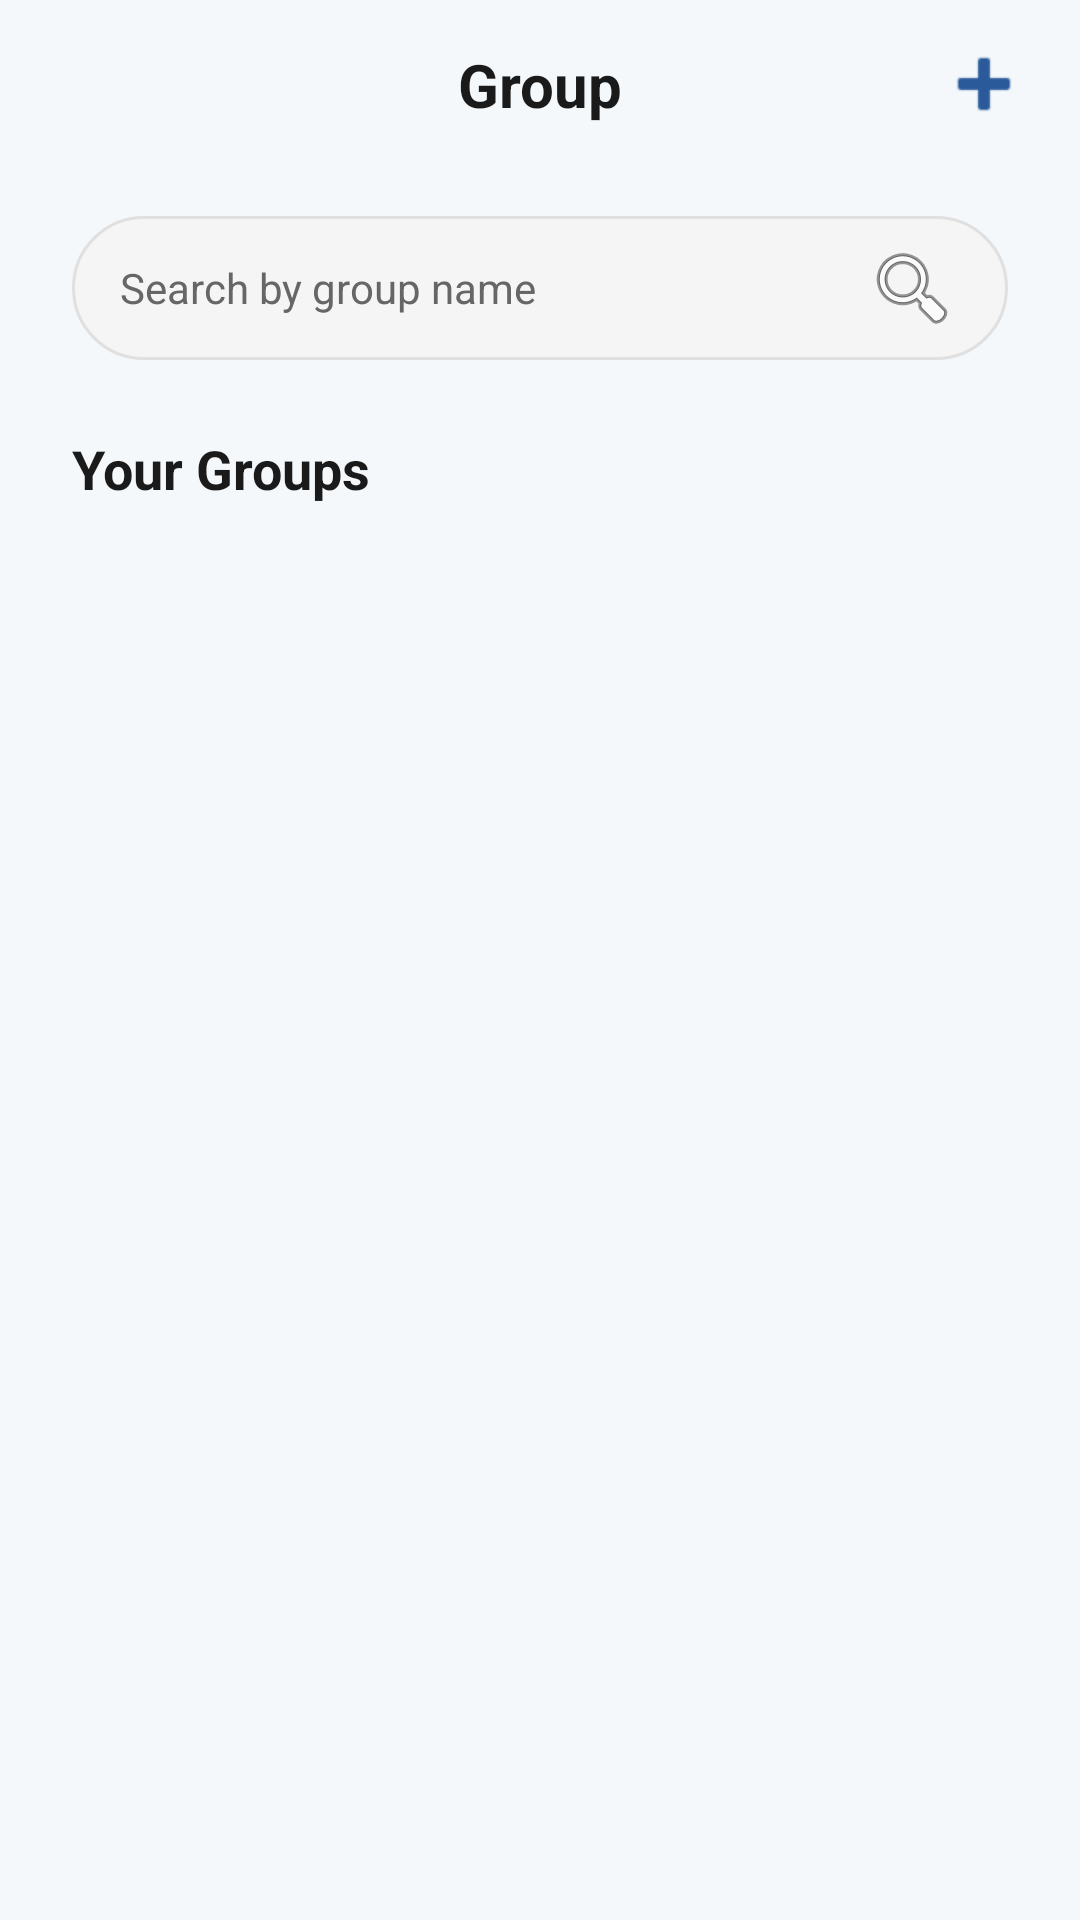

Icons on this 1080 × 1920 Android screen, each with its box as (x1, y1, x2, y2):
Add Friend: (957, 57, 1011, 111)
